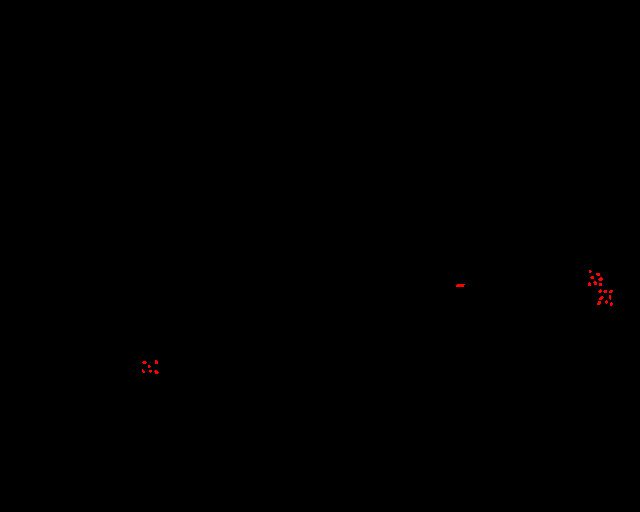Target: (456, 284, 465, 287), (598, 277, 603, 281), (599, 296, 604, 300), (154, 370, 159, 374), (593, 281, 597, 285), (598, 289, 602, 293), (597, 301, 601, 305), (142, 361, 147, 364), (596, 273, 600, 276), (590, 276, 594, 279), (588, 282, 591, 286), (603, 290, 607, 293), (609, 290, 613, 293), (605, 300, 608, 304), (610, 302, 613, 306), (155, 360, 158, 364), (142, 369, 145, 373), (609, 295, 611, 300), (589, 270, 592, 273), (599, 283, 602, 286), (148, 365, 151, 368), (149, 370, 152, 373)
